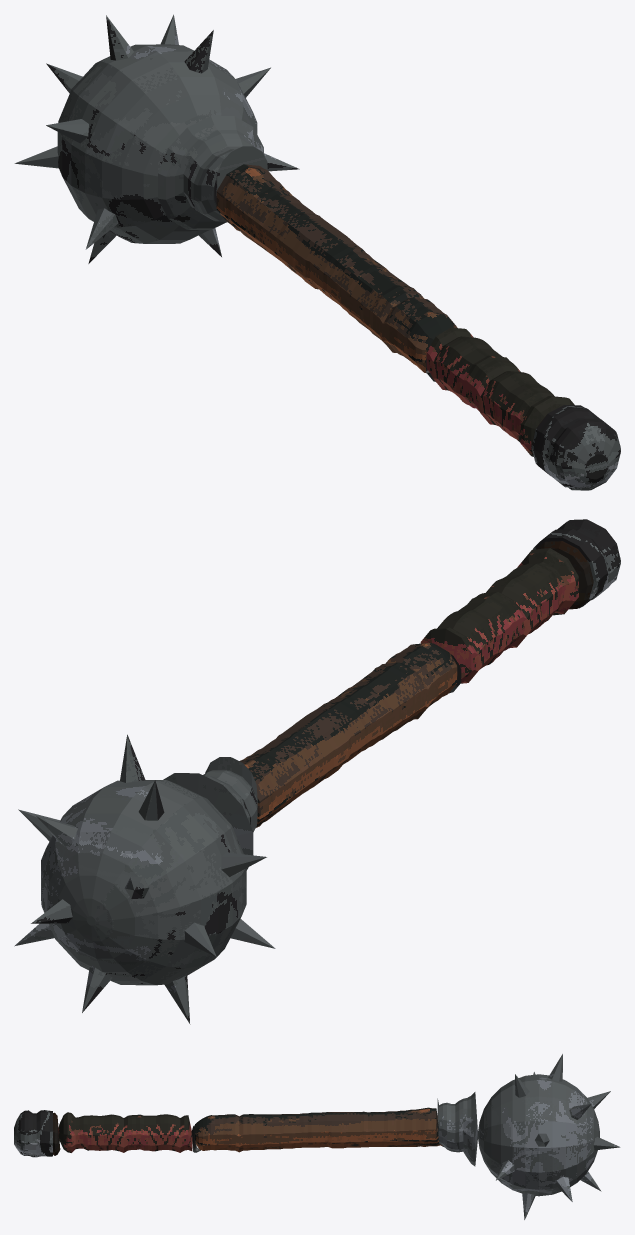
File: mace.glb
The picture shows the model from 3 angles, top to bottom: view 1: azimuth 30°, elevation 25°; view 2: azimuth 150°, elevation 25°; view 3: azimuth 270°, elevation 25°; orthographic projection. The views are drawn at different scales.
Visible parts, largest first — view 1: head, haft, grip, butt; view 2: head, haft, grip, butt, band; view 3: head, haft, grip, butt, band.
Part boxes in pixels (x1,y1,x2,y2): head: (14, 14, 299, 263); haft: (216, 164, 457, 373); grip: (426, 327, 574, 456); butt: (531, 405, 620, 490); head: (14, 734, 275, 1024); haft: (239, 642, 457, 827); grip: (420, 548, 578, 683); butt: (533, 519, 620, 608); band: (536, 541, 593, 609); head: (437, 1054, 620, 1219); haft: (194, 1107, 443, 1152); grip: (58, 1112, 192, 1152); butt: (14, 1110, 52, 1157); band: (53, 1112, 60, 1155).
Bounding box in the file's own units: 0.188 × 0.1839 × 0.7064.
2 materials, 2 textured.
